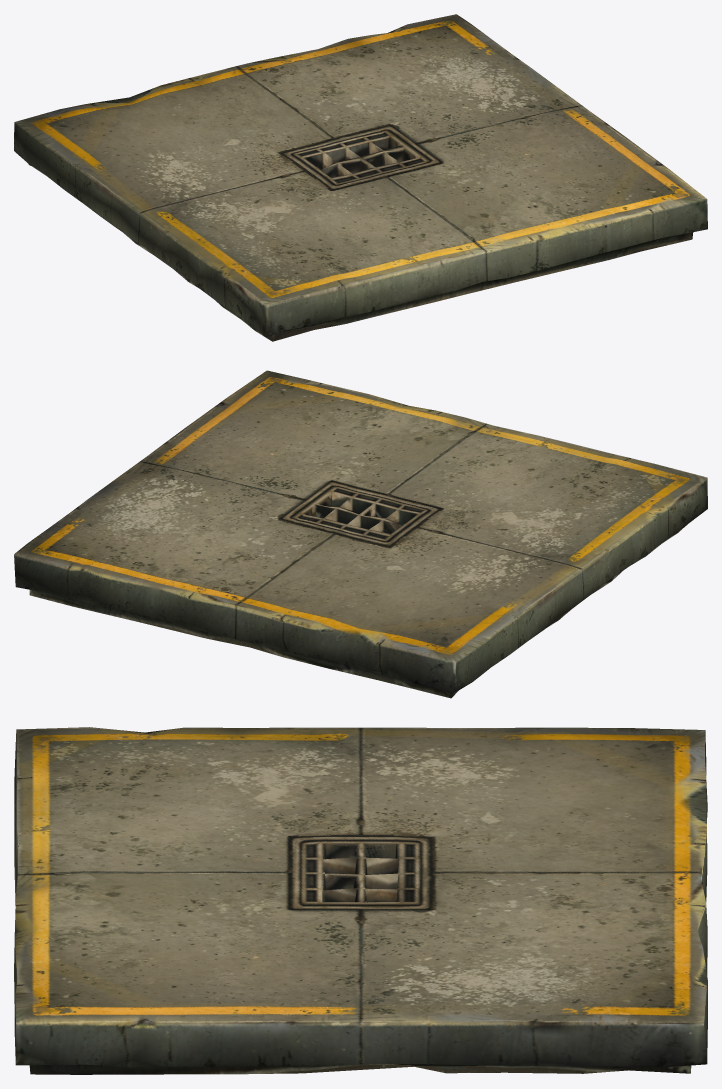
The model's file is EX_Mil_Floor.fbx.
3 renders of one model, top to bottom at view 1: azimuth 30°, elevation 25°; view 2: azimuth 150°, elevation 25°; view 3: azimuth 270°, elevation 25°, orthographic. The views are drawn at different scales.
Visible parts, largest first — view 1: texture_mapping; view 2: texture_mapping; view 3: texture_mapping.
Boxes of the visible parts, x1,y1,x2,y2 form: texture_mapping: [14, 14, 707, 341]; texture_mapping: [14, 370, 707, 698]; texture_mapping: [14, 727, 707, 1074].
Size of the model in its own units: 1 by 0.9896 by 0.1097.
Materials: 1 (1 with a texture image).
